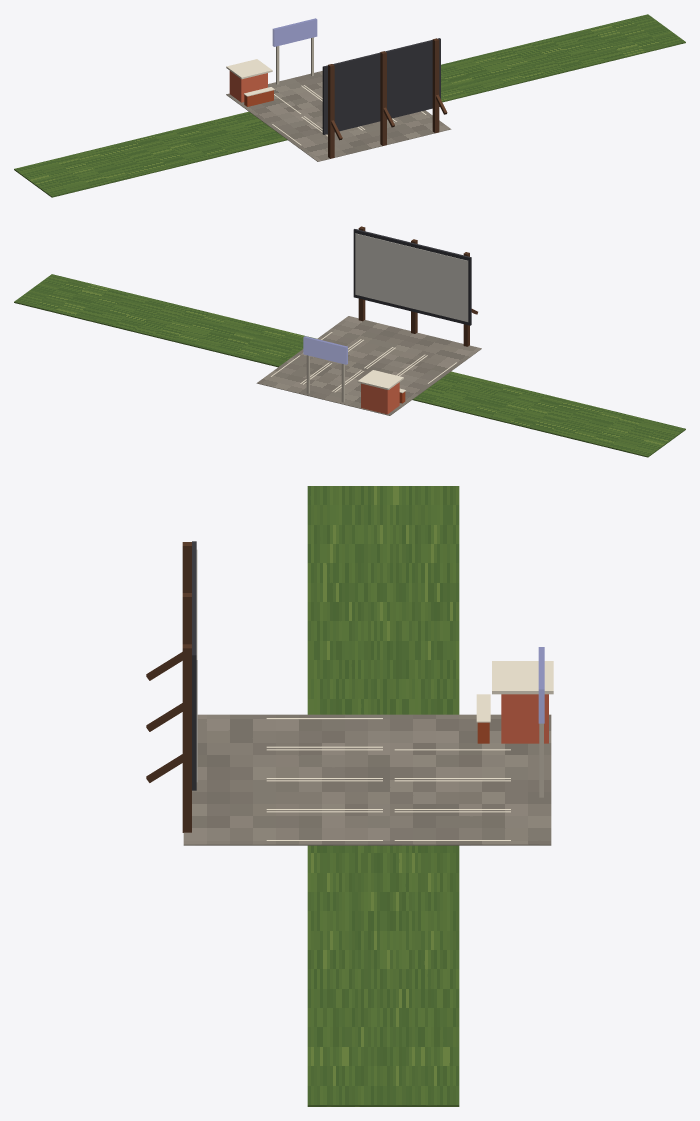
The model's file is structure.glb.
The picture shows the model from 3 angles, top to bottom: view 1: azimuth 30°, elevation 25°; view 2: azimuth 150°, elevation 25°; view 3: azimuth 270°, elevation 25°; orthographic projection. The views are drawn at different scales.
Parts seen in each view (by area): view 1: Box1, Box9, Box2, Box13, Box28, Box7, Box3, Box5, Box29, Box30; view 2: Box1, Box2, Box10, Box9, Box28, Box13, Box29; view 3: Box1, Box2, Box28, Box29, Box7, Box9.
Boxes of the visible parts, x1,y1,x2,y2 form: Box1: (14,14,685,197); Box9: (322,38,440,134); Box2: (226,71,451,161); Box13: (272,18,317,46); Box28: (229,71,267,102); Box7: (432,38,439,133); Box3: (328,64,334,158); Box5: (380,51,386,145); Box29: (226,59,272,79); Box30: (244,90,273,106); Box1: (14,274,685,457); Box2: (256,316,481,415); Box10: (355,233,468,321); Box9: (353,229,471,325); Box28: (361,382,399,414); Box13: (303,336,347,364); Box29: (357,370,403,389); Box1: (307,486,459,1106); Box2: (183,714,551,845); Box28: (501,694,548,743); Box29: (492,661,553,694); Box7: (182,644,191,832); Box9: (192,541,196,790).
Bounding box in the file's own units: 61.76 × 8.73 × 17.18.
Materials: 10 (2 with a texture image).
